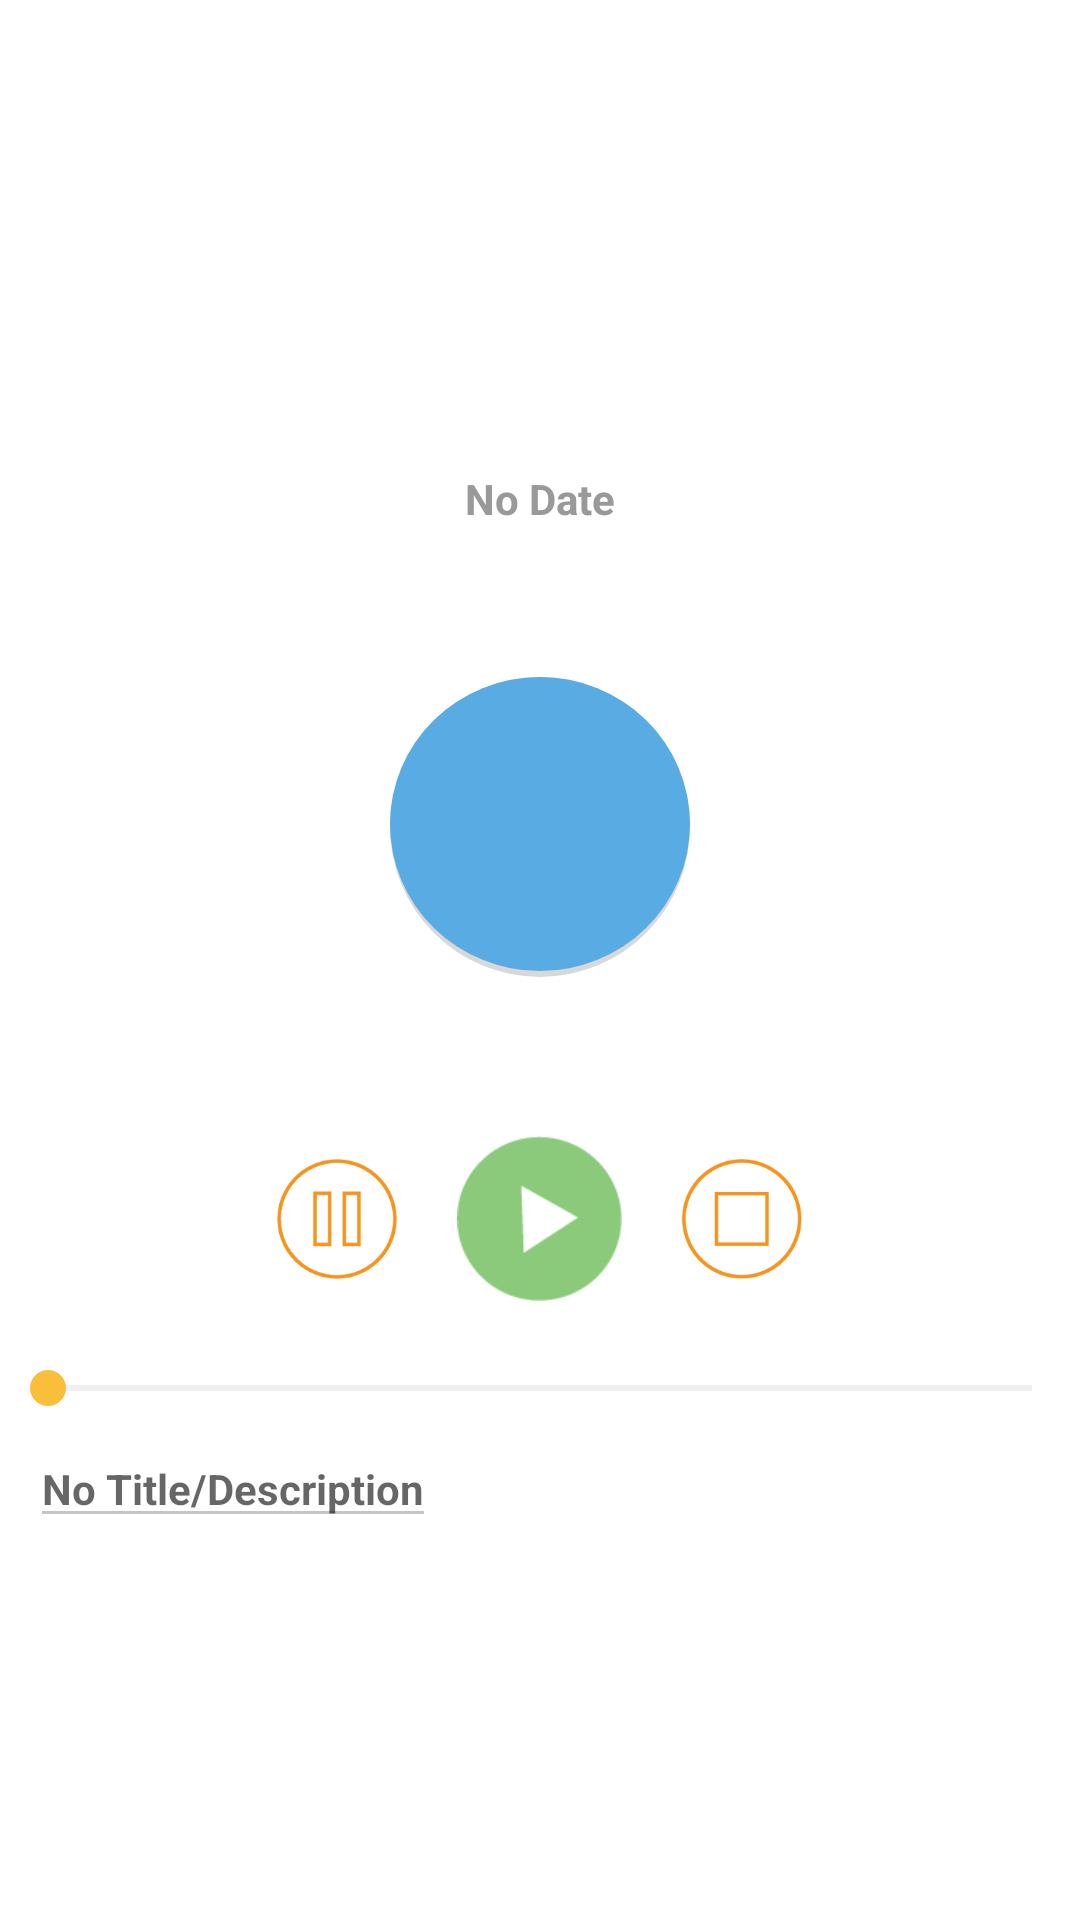

Point at icon controls on the screen. Image size 1080*1920, points as point (x, y).
pausebutton: point (337, 1219)
playbutton: point (539, 1218)
stopbutton: point (742, 1219)
